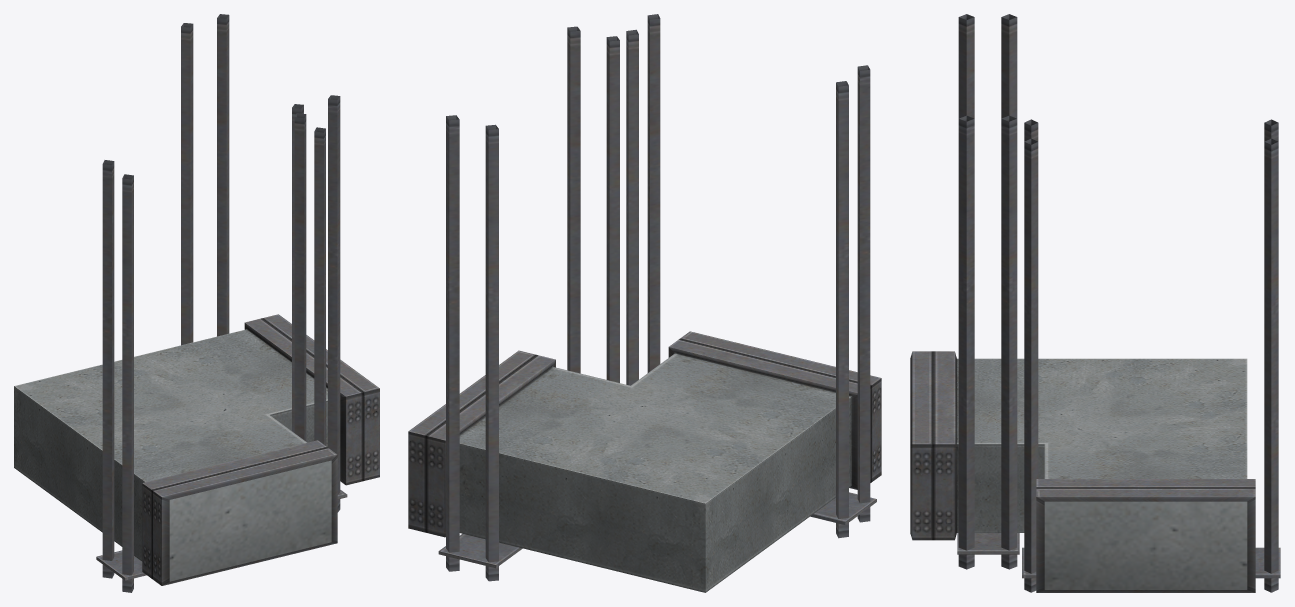
File: Ventilation_pipe_D.FBX
3 views of the same model, side by side, from view 1: azimuth 30°, elevation 25°; view 2: azimuth 150°, elevation 25°; view 3: azimuth 270°, elevation 25° (orthographic). The views are drawn at different scales.
Parts seen in each view (by area): view 1: Ventilation_pipe_D; view 2: Ventilation_pipe_D; view 3: Ventilation_pipe_D.
Boxes of the visible parts, left/top/right/bottom form: Ventilation_pipe_D: left=14, top=14, right=379, bottom=592; Ventilation_pipe_D: left=408, top=14, right=881, bottom=592; Ventilation_pipe_D: left=910, top=14, right=1280, bottom=592.
Bounding box in the file's own units: 86.81 × 87.73 × 117.
1 material, 1 textured.
